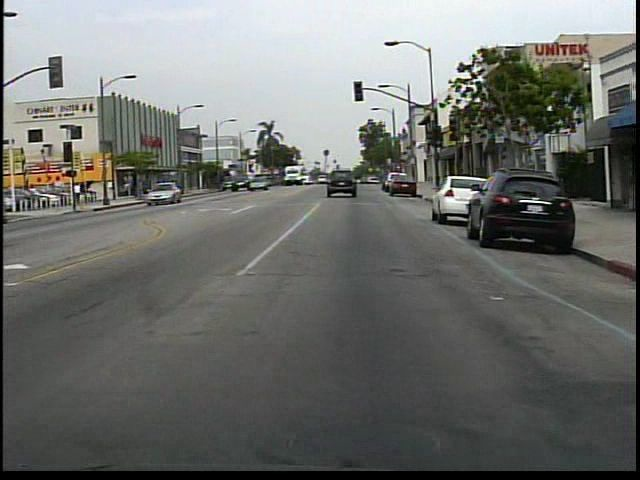person: (76, 180, 86, 207)
